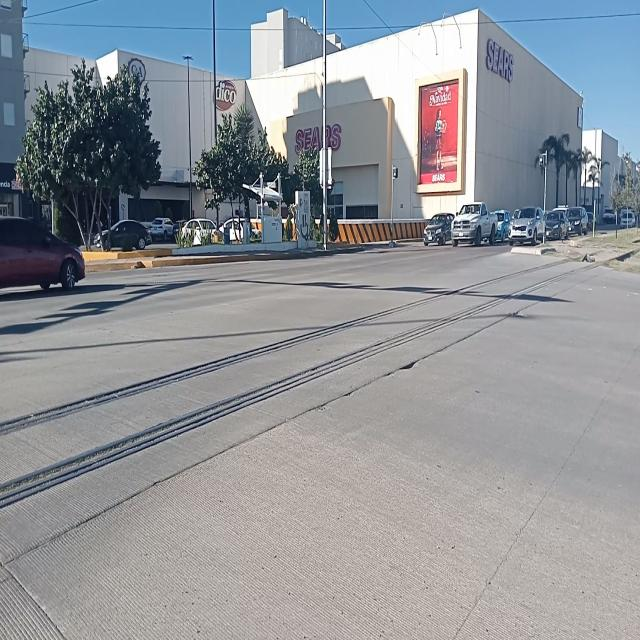Auto: (0, 213, 95, 292), (450, 201, 497, 249), (509, 201, 548, 247)
